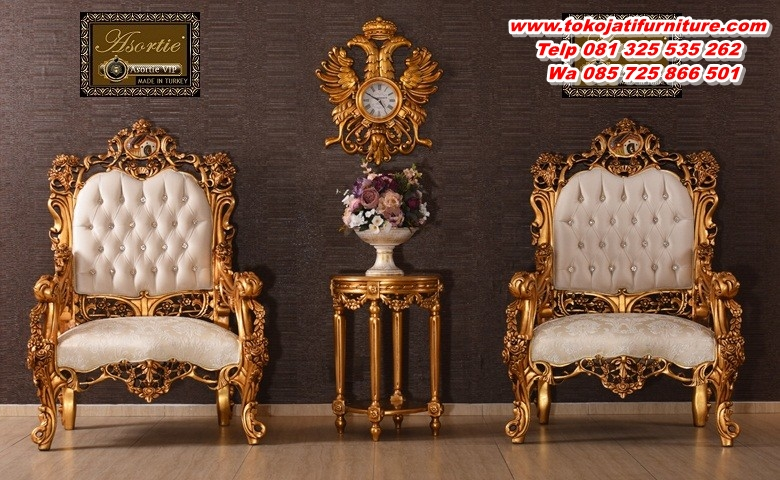Carving Chair: (33, 135, 282, 433), (508, 141, 736, 447)
